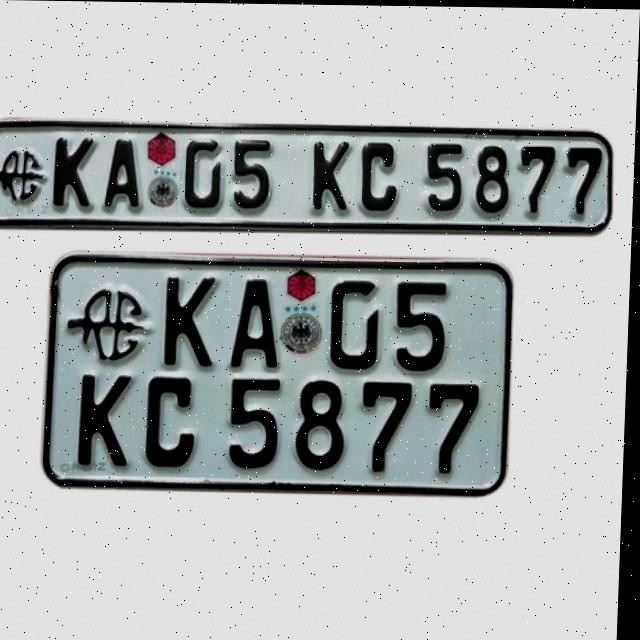plate: (44, 253, 516, 496), (0, 116, 616, 234)
